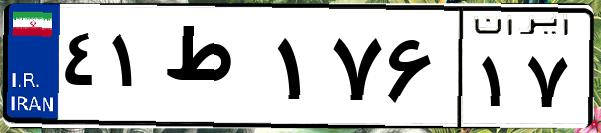1: (270, 28, 330, 110), (475, 38, 525, 113), (110, 28, 158, 98)
4: (57, 26, 110, 100)
6: (385, 28, 445, 110)
7: (330, 28, 385, 110), (525, 38, 570, 115)
ط: (158, 20, 270, 120)
